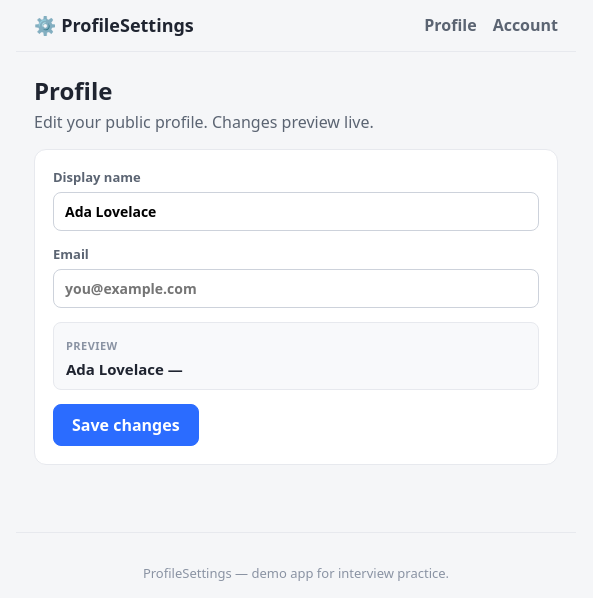
Scenario: m07 · ProfileSettings — controlled inputs › editing the name updates the preview
Replace the text in the field with test id "name" with "Grace Hopper". click: (296,212)
box: x1=53 y1=192 x2=539 y2=231
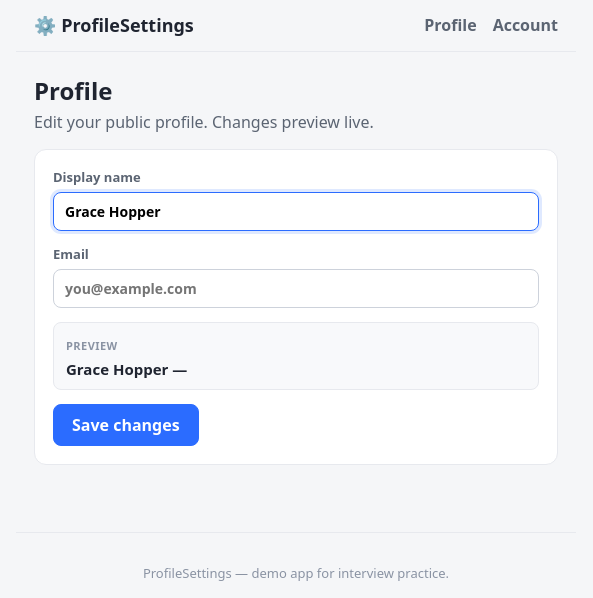
Now the text with test id "preview" shows "Grace Hopper", box x1=66 y1=359 x2=168 y2=379
